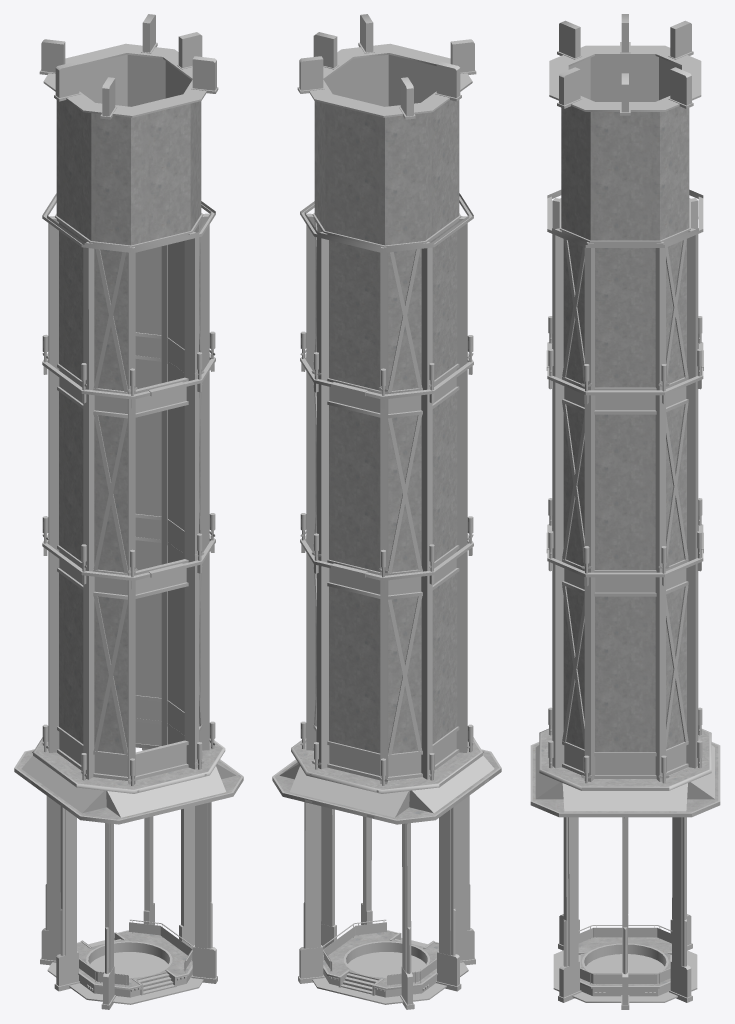
File: SM_Ele_01.fbx
The picture shows the model from 3 angles, left to right: view 1: azimuth 30°, elevation 25°; view 2: azimuth 150°, elevation 25°; view 3: azimuth 270°, elevation 25°; orthographic projection.
Parts seen in each view (by area): view 1: SM_Cit_Ele_01AH.mo, SM_Pro_Ele_01BM.mo; view 2: SM_Cit_Ele_01AH.mo, SM_Pro_Ele_01BM.mo; view 3: SM_Cit_Ele_01AH.mo, SM_Pro_Ele_01BM.mo.
Boxes of the visible parts, left/top/right/bottom form: SM_Cit_Ele_01AH.mo: left=14, top=14, right=243, bottom=1009; SM_Pro_Ele_01BM.mo: left=77, top=919, right=193, bottom=997; SM_Cit_Ele_01AH.mo: left=272, top=14, right=501, bottom=1009; SM_Pro_Ele_01BM.mo: left=322, top=919, right=438, bottom=997; SM_Cit_Ele_01AH.mo: left=530, top=14, right=720, bottom=1009; SM_Pro_Ele_01BM.mo: left=578, top=925, right=672, bottom=996.
Bounding box in the file's own units: 13.23 × 71.16 × 13.24.
